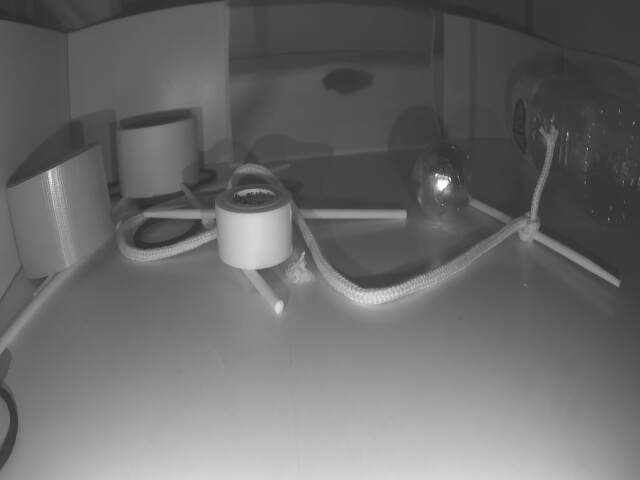Live: (414, 139, 476, 220)
